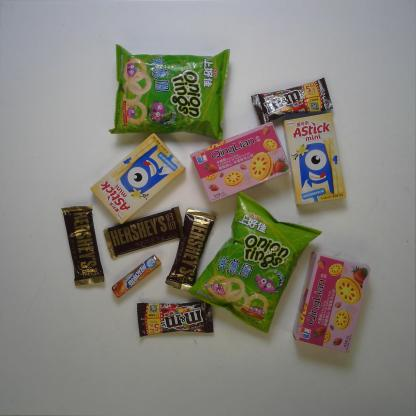Candy: (110, 254, 162, 300)
Chocolate: (164, 207, 217, 295), (250, 75, 335, 128), (102, 206, 183, 260), (58, 204, 106, 290), (136, 297, 214, 342)
Dessert: (186, 119, 293, 207), (88, 134, 186, 224), (291, 250, 371, 355), (280, 105, 348, 208)
Puffed Food: (188, 187, 323, 333), (108, 41, 231, 142)
